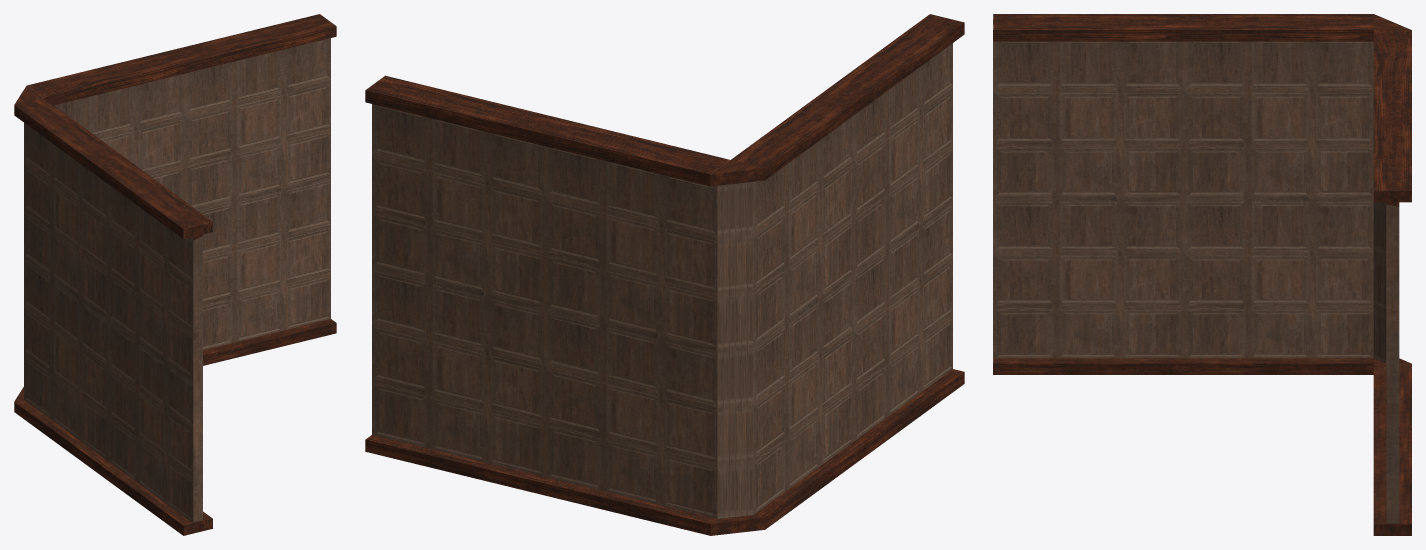
The model's file is SPECIAL CORNER.fbx.
The picture shows the model from 3 angles, left to right: view 1: azimuth 30°, elevation 25°; view 2: azimuth 150°, elevation 25°; view 3: azimuth 270°, elevation 25°; orthographic projection. The views are drawn at different scales.
Visible parts, largest first — view 1: CORNER2_sy2; view 2: CORNER2_sy2; view 3: CORNER2_sy2.
Boxes of the visible parts, x1,y1,x2,y2 form: CORNER2_sy2: (14, 14, 336, 535); CORNER2_sy2: (365, 14, 964, 535); CORNER2_sy2: (993, 14, 1411, 535).
Size of the model in its own units: 330 by 300 by 330.
